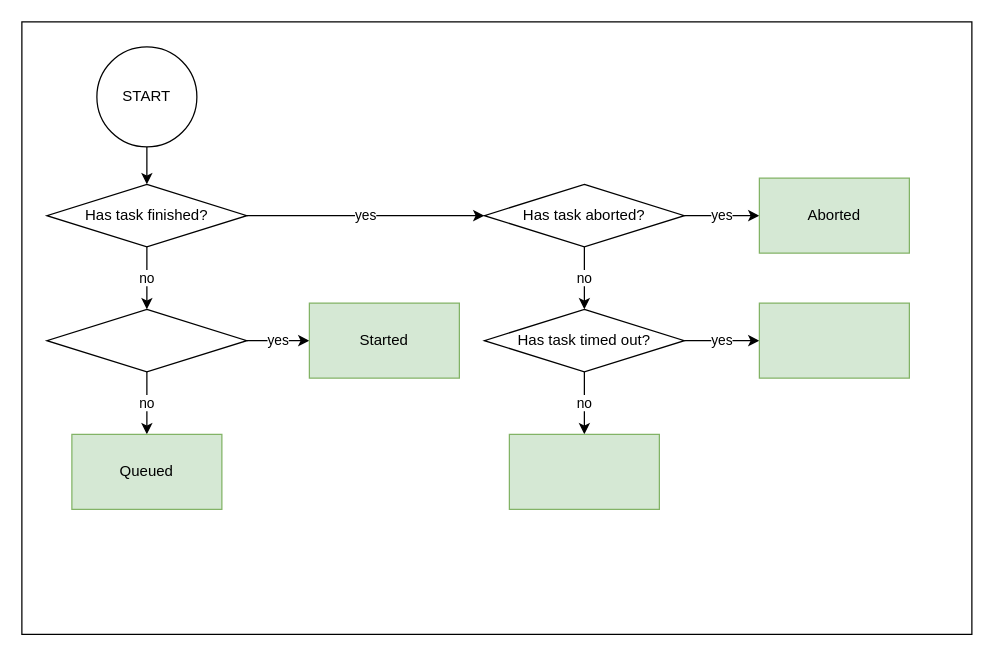
Some shapes in this 994 by 656 pixel diagram are drawn without their labels. Here are the shapes that lost their labels. From the top down, the box of each, then its label:
(46, 308, 247, 372): Has task started?
(758, 302, 909, 378): Timed out
(508, 433, 659, 509): Finished
